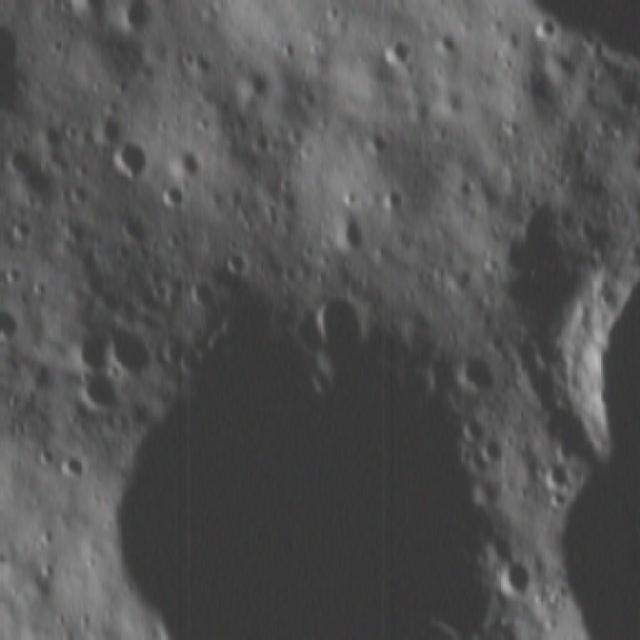crater: (81, 264, 510, 640), (538, 198, 640, 462), (96, 315, 173, 383), (308, 289, 369, 356), (448, 343, 504, 403), (60, 316, 112, 376), (66, 364, 126, 414), (102, 136, 156, 187), (492, 553, 538, 605), (373, 30, 419, 70), (164, 144, 205, 185), (111, 0, 157, 32), (528, 13, 570, 47), (154, 177, 189, 214), (361, 124, 396, 159), (51, 448, 85, 482), (538, 454, 568, 492), (58, 0, 115, 11)
